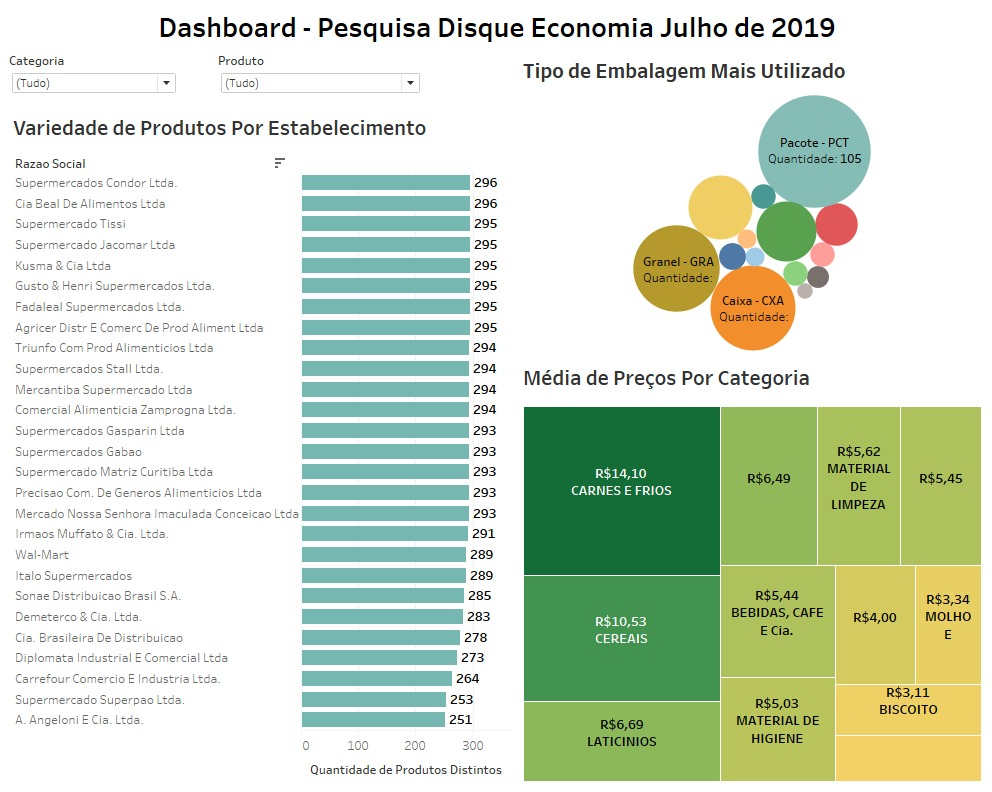

The page's visual inventory and layout, read from the dashboard file:
{"tool":"tableau","page":{"name":"Painel 1","canvas":[1000,800],"ordinal":0},"visuals":[{"type":"text","box":[8,8,984,43]},{"type":"filter","title":"Média de Preços Por Categoria","param":"[federated.1x7321l0k0bvtz11mo9ry00vpsfd].[none:ds_categoria:nk]","box":[8,51,177.8,52]},{"type":"filter","title":"Média de Preços Por Categoria","param":"[federated.1x7321l0k0bvtz11mo9ry00vpsfd].[none:ds_produto:nk]","box":[216.9,51,212.7,57]},{"type":"worksheet","title":"Tipo de Embalagem Mais Utilizado","mark":"Circle","box":[518,51,474,307]},{"type":"worksheet","title":"Variedade de Produtos Por Estabelecimento","mark":"Automatic","rows":["ds_razao_social"],"cols":["cd_produto"],"box":[8,108,510,684]},{"type":"worksheet","title":"Média de Preços Por Categoria","mark":"Automatic","box":[518,358,474,434]}]}

Visuals, with their boxes in screenshot pixels (x1, y1, x2, y2), scaled from the page's 1000x800 canvas onto the 992x792 screenshot:
text: (8, 8, 984, 50)
"Média de Preços Por Categoria" filter: (8, 50, 184, 102)
"Média de Preços Por Categoria" filter: (215, 50, 426, 107)
"Tipo de Embalagem Mais Utilizado" worksheet (Circle marks): (514, 50, 984, 354)
"Variedade de Produtos Por Estabelecimento" worksheet: (8, 107, 514, 784)
"Média de Preços Por Categoria" worksheet: (514, 354, 984, 784)
